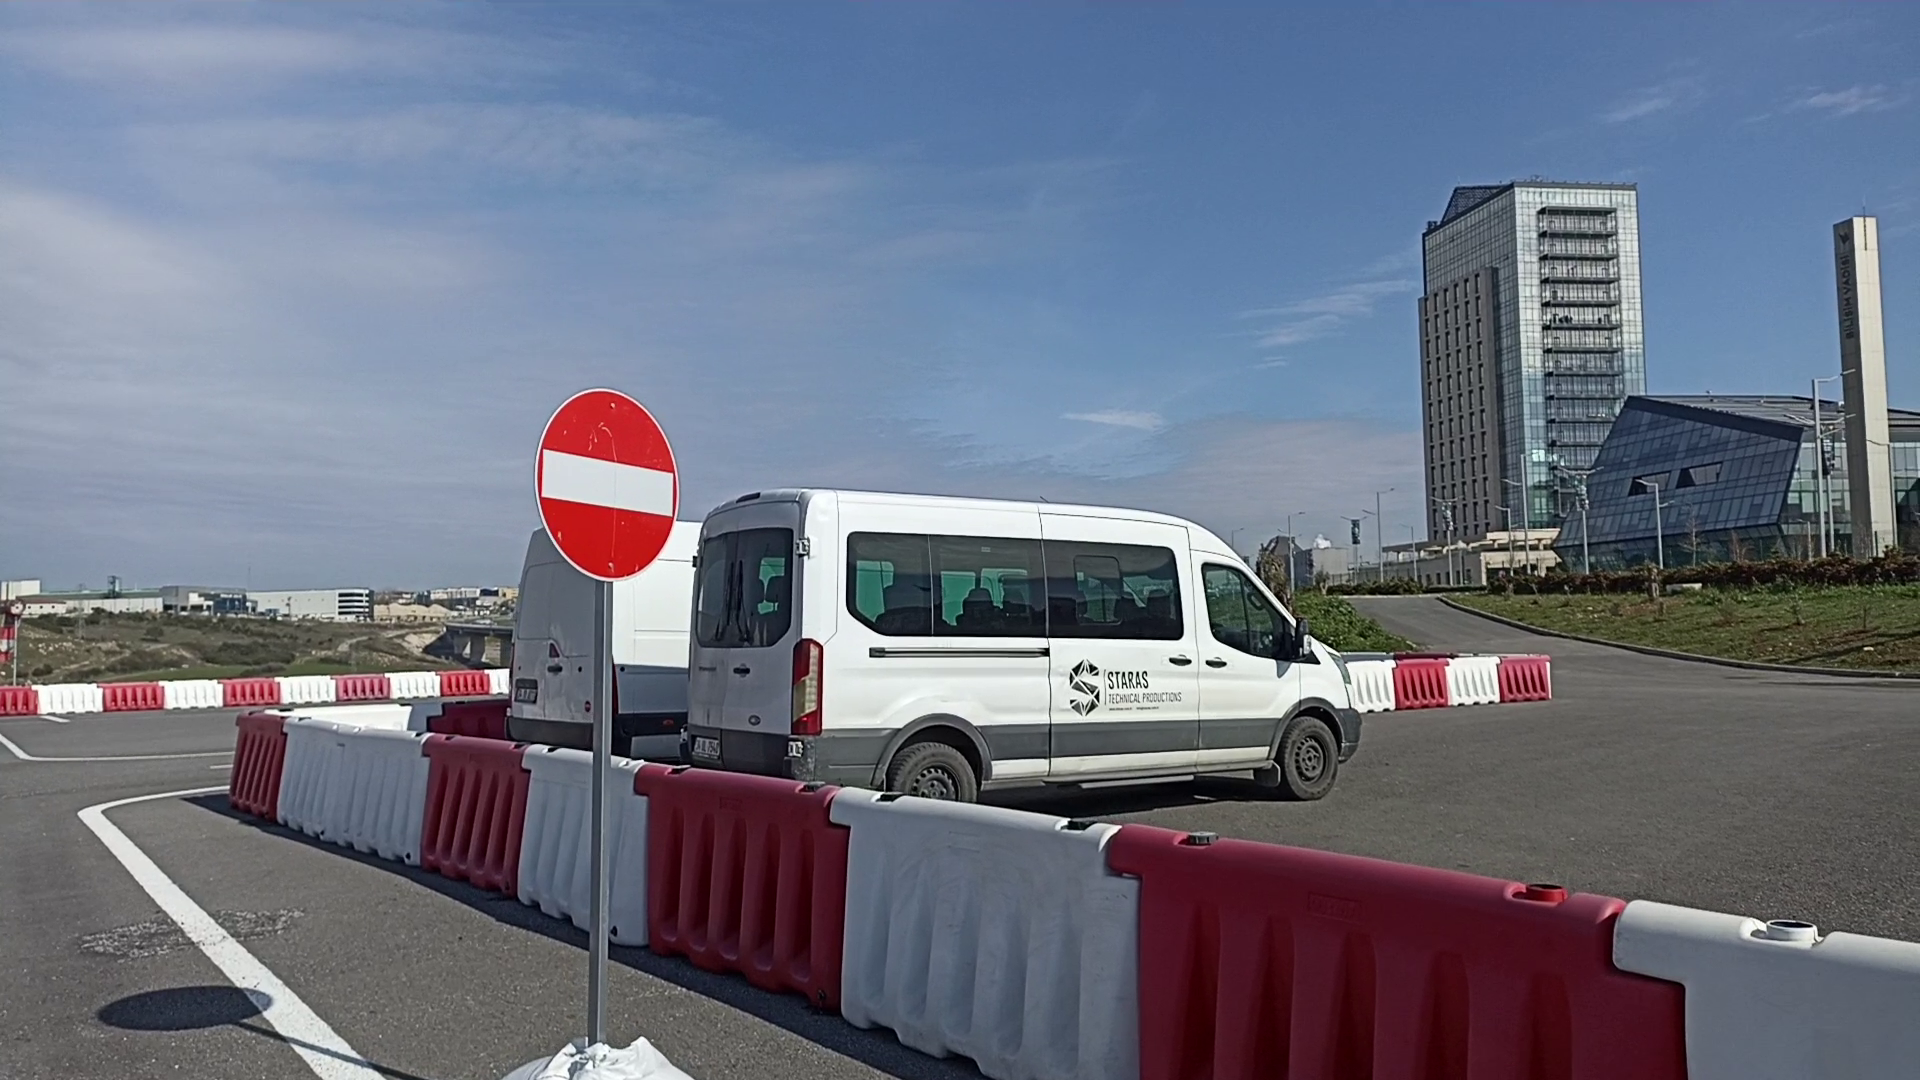noentryway: (529, 385, 682, 587)
